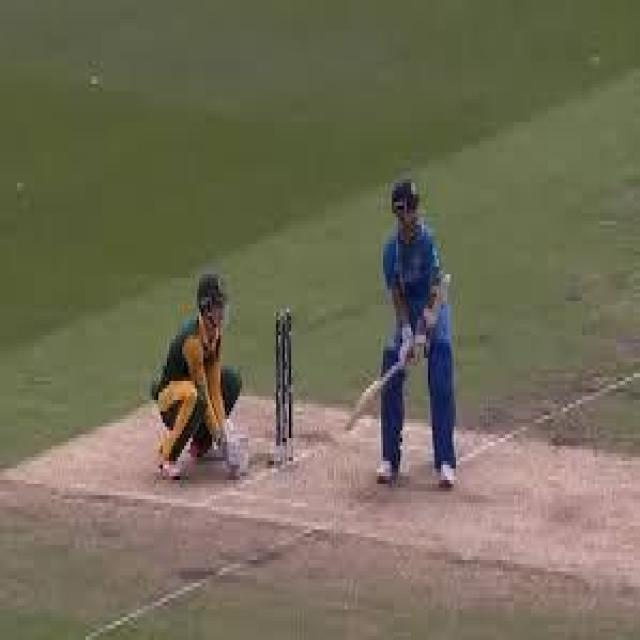bat: (343, 357, 407, 439)
toe: (343, 408, 361, 436)
